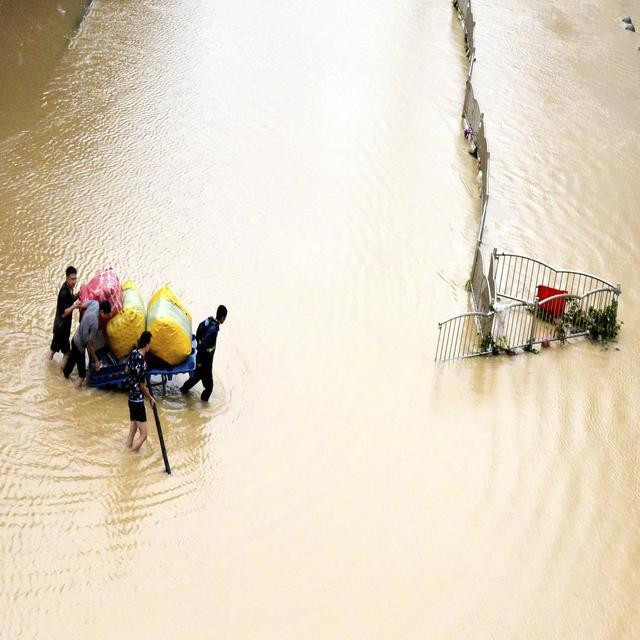Person-RiskLevel2: (122, 325, 166, 470), (185, 303, 239, 412), (69, 283, 116, 378), (45, 263, 75, 373)
